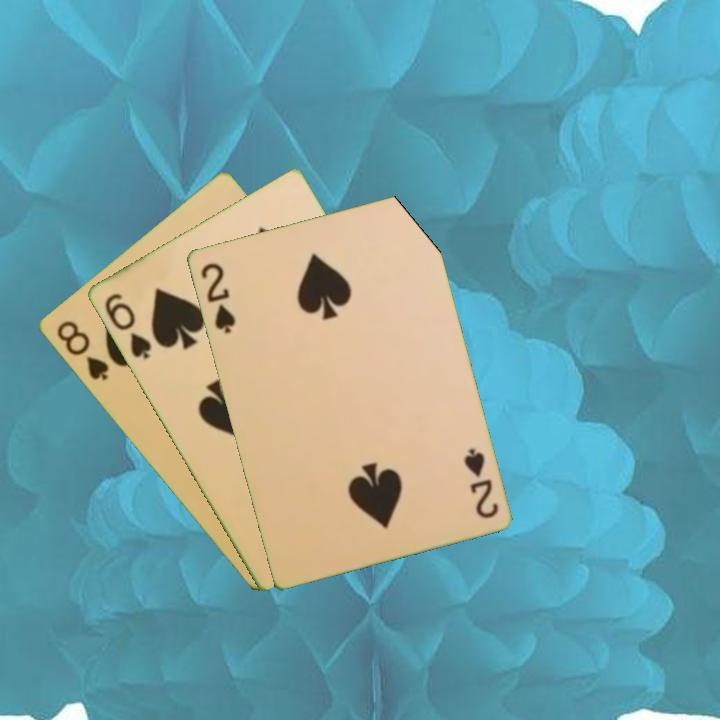2s: (197, 259, 238, 336), (460, 444, 501, 521)
6s: (100, 289, 154, 362)
8s: (52, 316, 111, 384)
